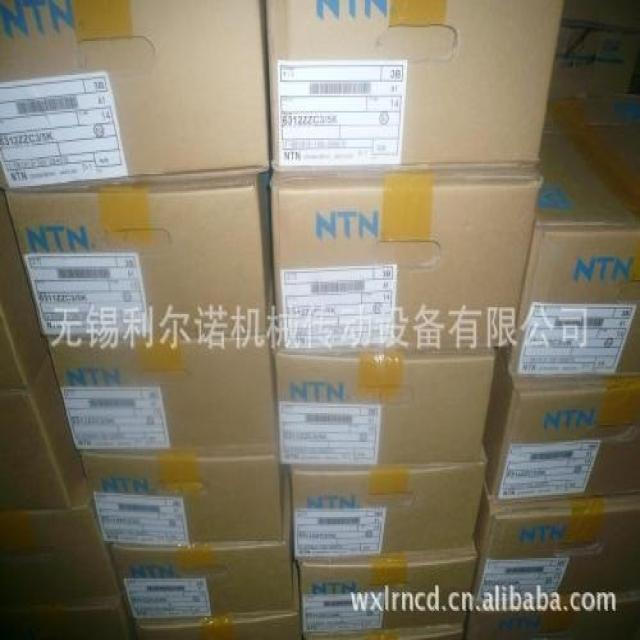box: (0, 0, 271, 192), (265, 1, 564, 172), (270, 167, 543, 349), (5, 174, 270, 339), (48, 276, 278, 452), (499, 93, 639, 379), (110, 463, 293, 620), (462, 478, 639, 638), (276, 346, 495, 465), (482, 346, 639, 504), (290, 442, 487, 560), (80, 451, 282, 546), (295, 538, 478, 636), (0, 476, 123, 610), (0, 348, 86, 508), (134, 561, 302, 638), (0, 187, 50, 388), (549, 0, 639, 97), (0, 593, 138, 638), (302, 624, 464, 638)
